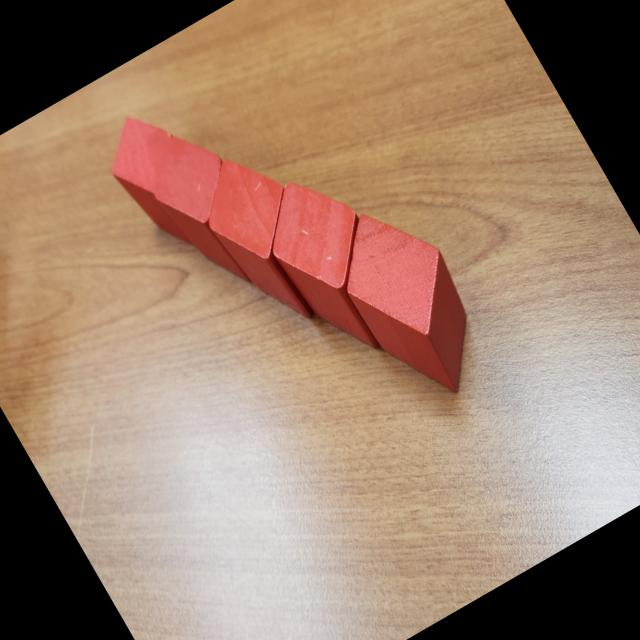red: (316, 188, 505, 414), (244, 158, 422, 371), (184, 139, 348, 338), (130, 118, 282, 305), (92, 100, 228, 264)
